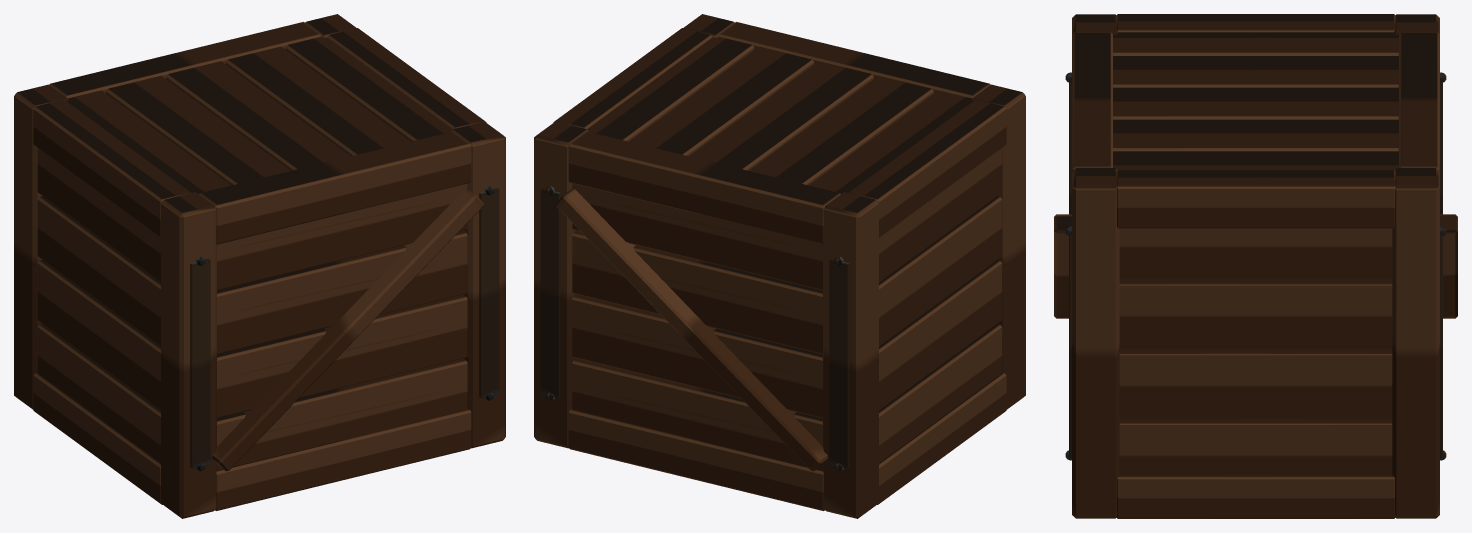
Rendered from Crate_Square.fbx.
3 views of the same model, side by side, from view 1: azimuth 30°, elevation 25°; view 2: azimuth 150°, elevation 25°; view 3: azimuth 270°, elevation 25° (orthographic). The views are drawn at different scales.
Parts seen in each view (by area): view 1: Crate_Square; view 2: Crate_Square; view 3: Crate_Square.
Part boxes in pixels (box(x1,y1,x2,y2)): Crate_Square: box(14, 14, 505, 518); Crate_Square: box(534, 14, 1025, 518); Crate_Square: box(1054, 14, 1457, 518).
Bounding box in the file's own units: 0.95 × 0.85 × 0.933.
Materials: 2 (2 with a texture image).
